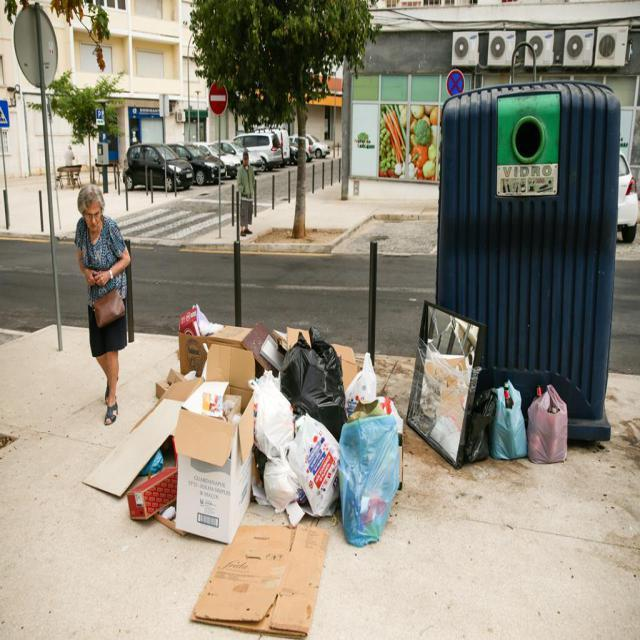Trashbag: (276, 331, 350, 442), (452, 388, 505, 471)
